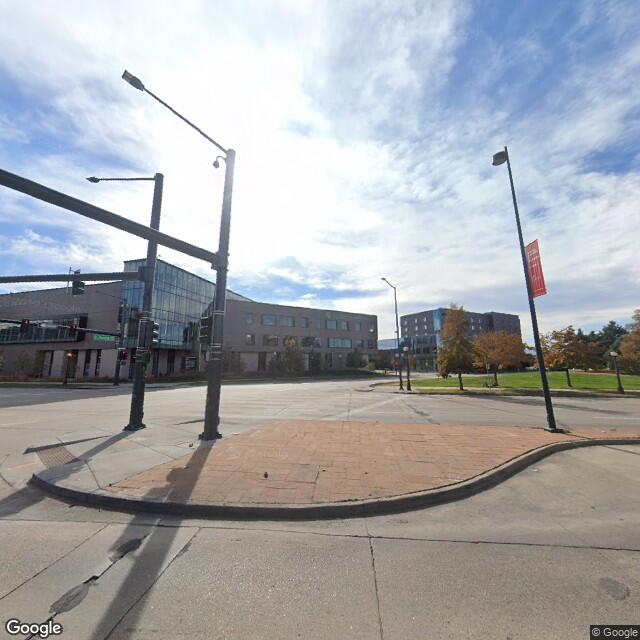lamp: (487, 144, 571, 436)
